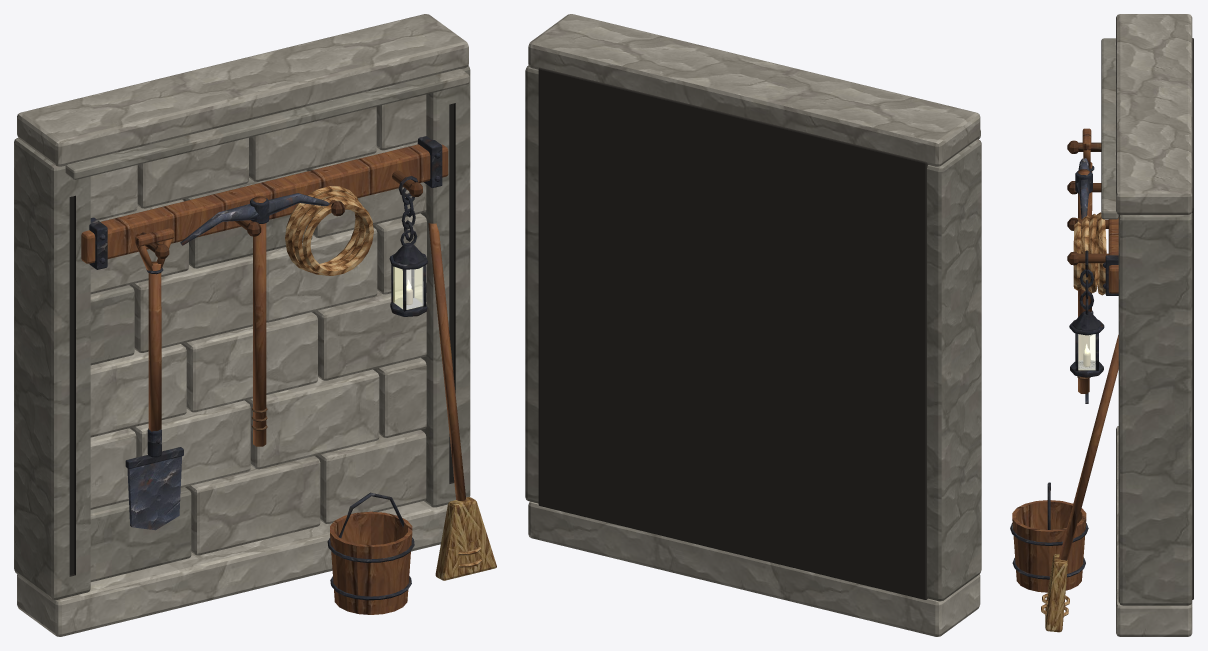
Rendered from qb_digger_tool_wall.glb.
The picture shows the model from 3 angles, left to right: view 1: azimuth 30°, elevation 25°; view 2: azimuth 150°, elevation 25°; view 3: azimuth 270°, elevation 25°; orthographic projection. The views are drawn at different scales.
Parts seen in each view (by area): view 1: model; view 2: model; view 3: model.
Boxes of the visible parts, x1,y1,x2,y2 form: model: (14,14,496,636); model: (525,14,981,636); model: (1010,14,1193,636).
Size of the model in its own units: 1.5 by 1.7 by 0.6359.
Materials: 15 (10 with a texture image).
